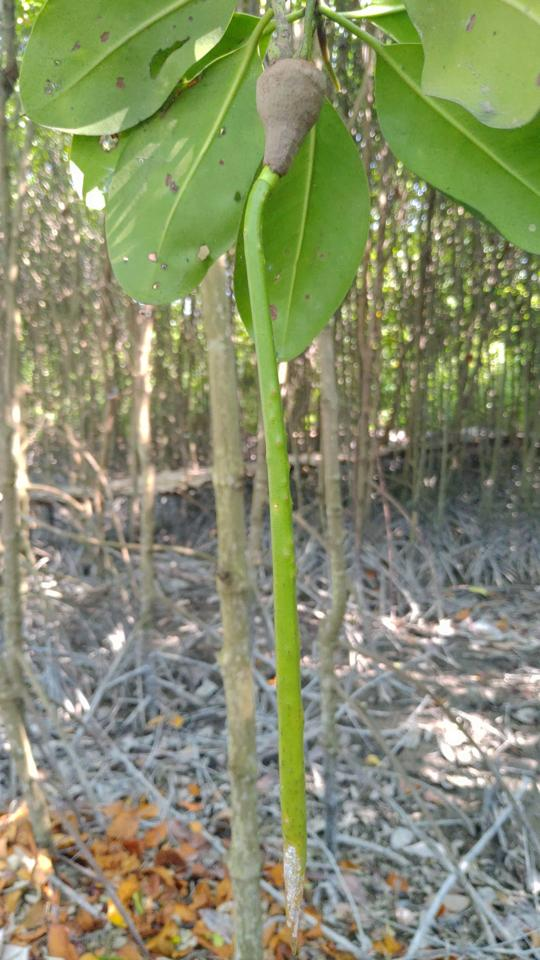setengah matang: (241, 29, 338, 938)
